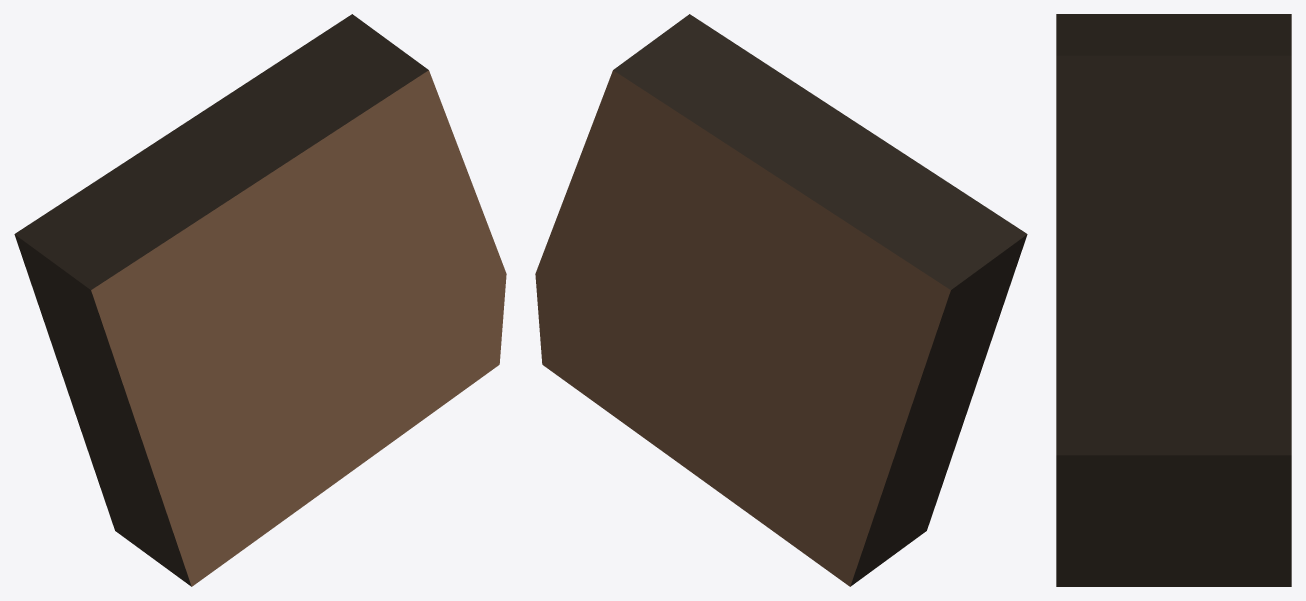
File: SM_DoorShard_03_50.fbx
3 views of the same model, side by side, from view 1: azimuth 30°, elevation 25°; view 2: azimuth 150°, elevation 25°; view 3: azimuth 270°, elevation 25° (orthographic). The views are drawn at different scales.
Parts seen in each view (by area): view 1: SM_DoorShard_03_50; view 2: SM_DoorShard_03_50; view 3: SM_DoorShard_03_50.
Boxes of the visible parts, x1=… form: SM_DoorShard_03_50: x1=14, y1=14, x2=506, y2=586; SM_DoorShard_03_50: x1=535, y1=14, x2=1027, y2=586; SM_DoorShard_03_50: x1=1056, y1=14, x2=1291, y2=586.
Size of the model in its own units: 50.07 by 16 by 52.85.
